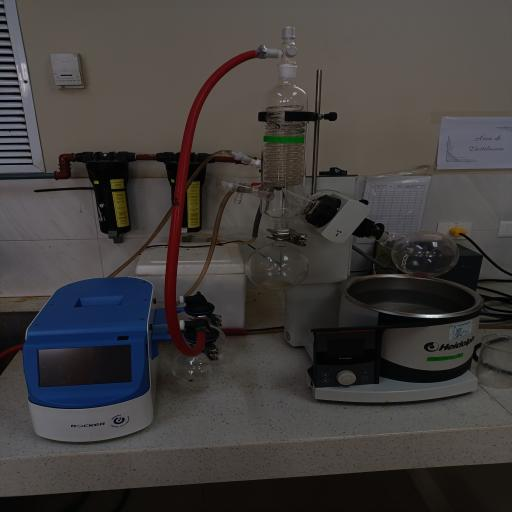Sistema_Rotaevaporacion: (17, 13, 494, 447)
